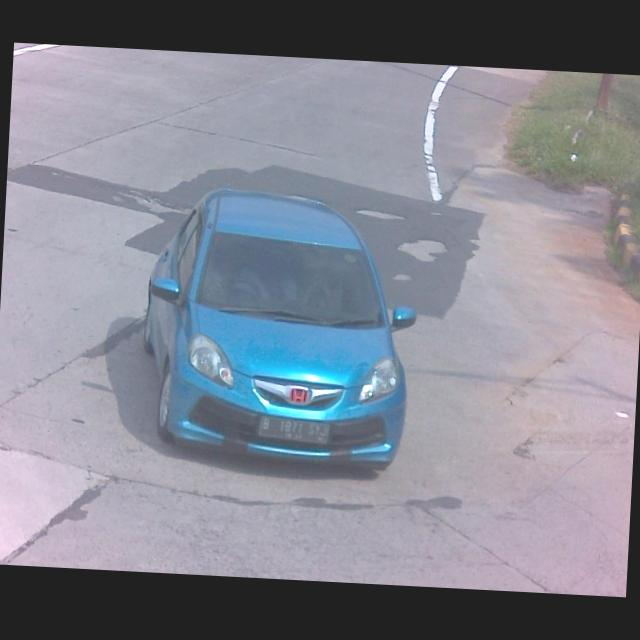plate: (260, 416, 330, 444)
